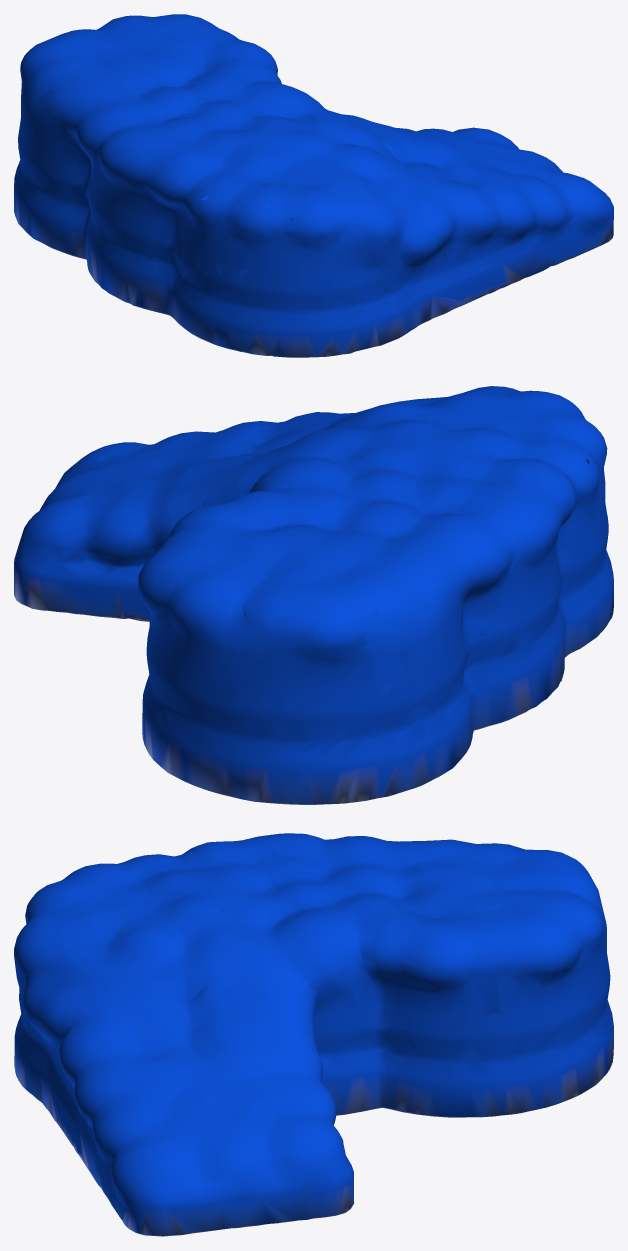
Rendered from ElevatedPlatform.fbx.
3 renders of one model, top to bottom at view 1: azimuth 30°, elevation 25°; view 2: azimuth 150°, elevation 25°; view 3: azimuth 270°, elevation 25°, orthographic. The views are drawn at different scales.
Visible parts, largest first — view 1: ElevatedPlatform; view 2: ElevatedPlatform; view 3: ElevatedPlatform.
Part boxes in pixels (<box>): ElevatedPlatform: <box>14,14,613,357</box>; ElevatedPlatform: <box>14,386,613,804</box>; ElevatedPlatform: <box>14,833,613,1236</box>.
Bounding box in the file's own units: 7395 × 2445 × 7633.
